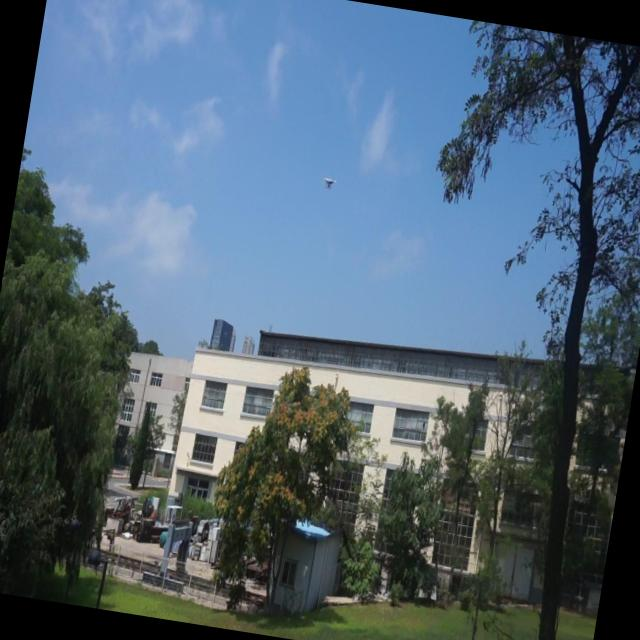drone: (322, 172, 337, 195)
